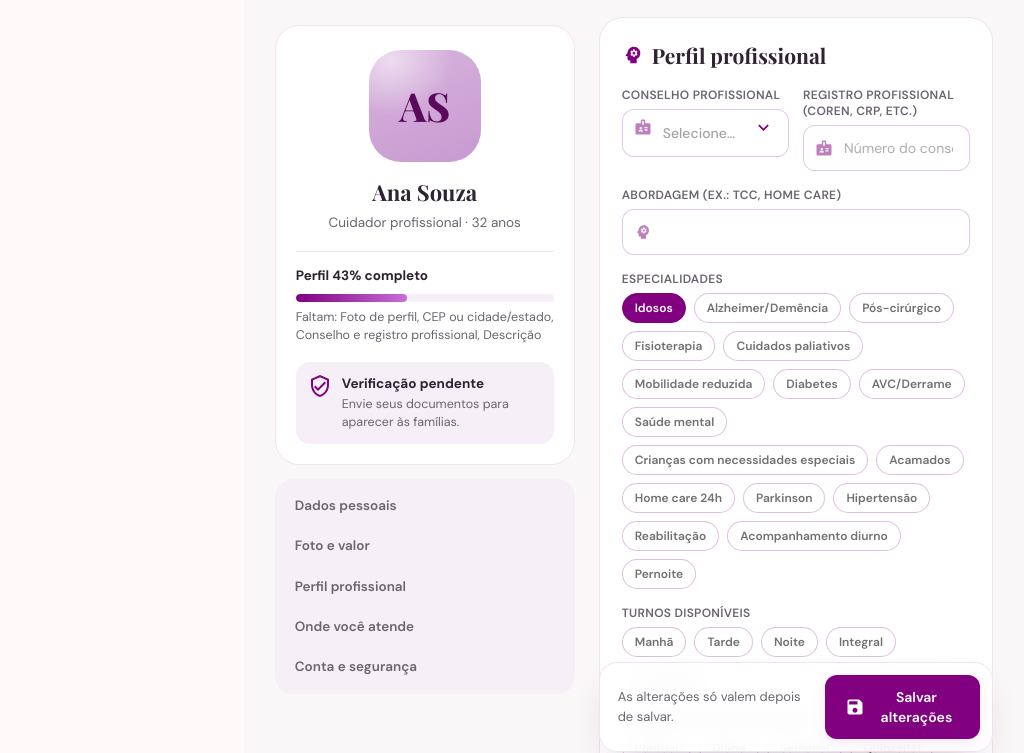
Test: Página de Perfil › especialidades: mostra os chips e envia como array de values
The width and height of the screenshot is (1024, 753).
(page scrolled)
Click the button "Diabetes". click: (812, 384)
box: x1=773 y1=369 x2=851 y2=399
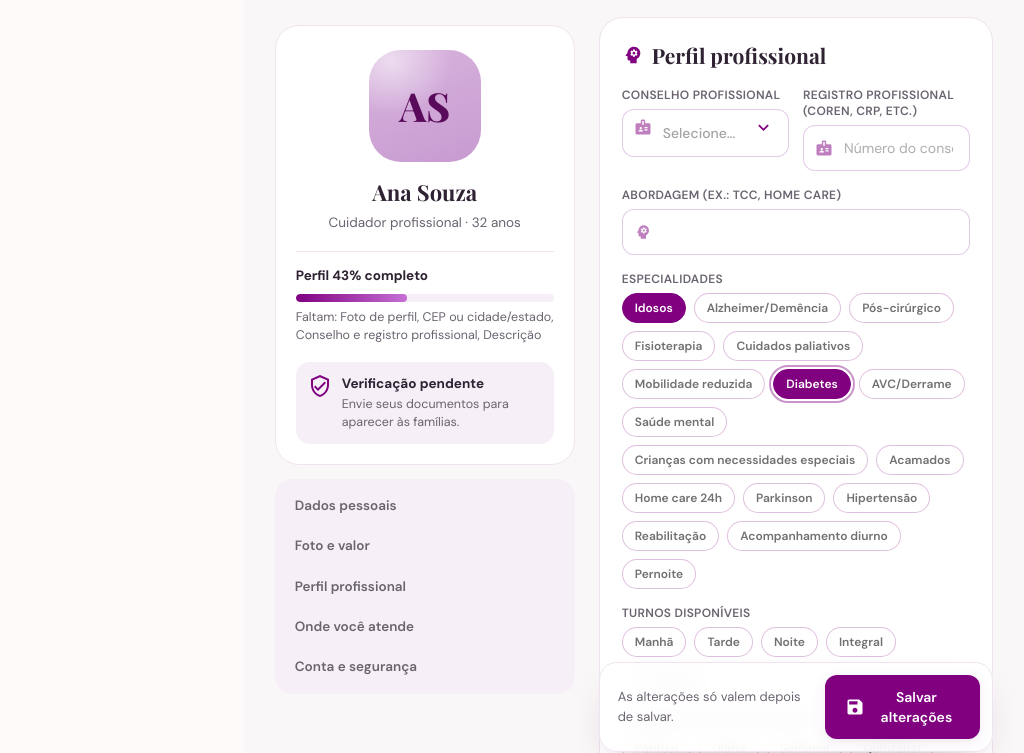
Click the button "Salvar alterações". click: (902, 707)
box: x1=825 y1=675 x2=980 y2=739
(page scrolled)
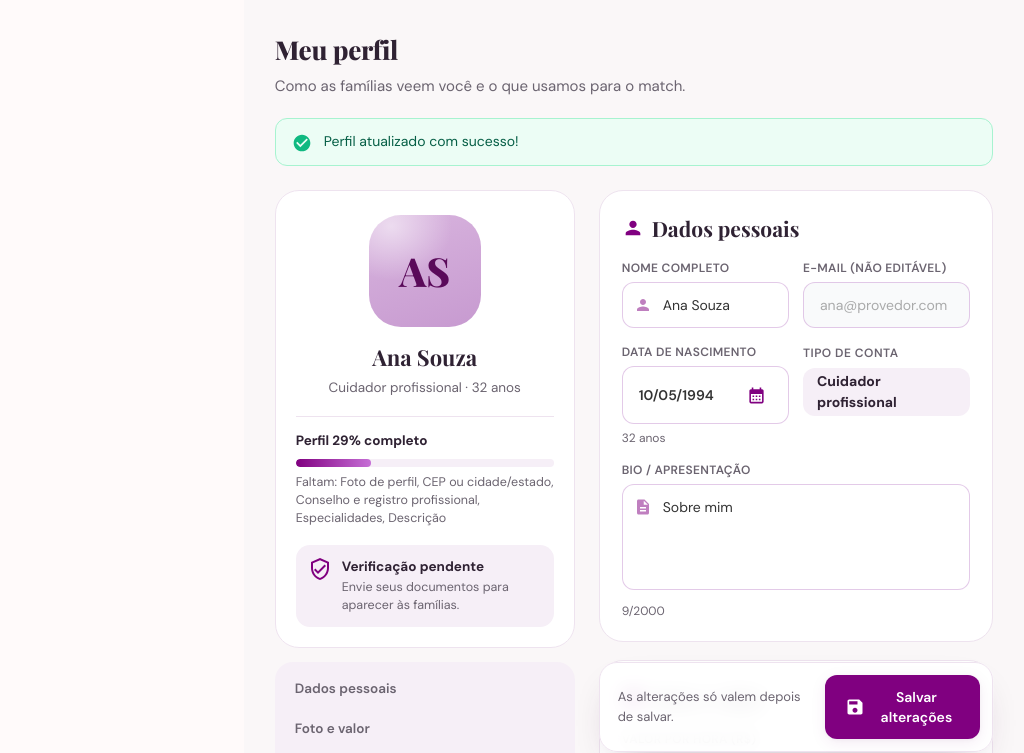
Check: the text "Perfil atualizado com sucesso!" is shown, box x1=324 y1=130 x2=518 y2=150
